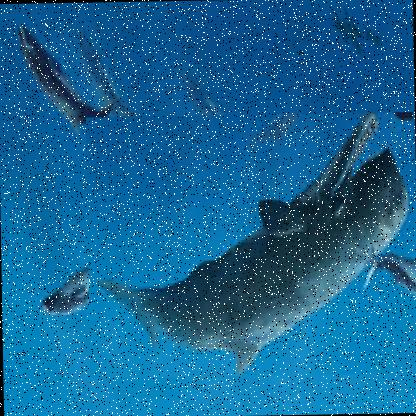sperm_whale: (85, 110, 415, 379)
